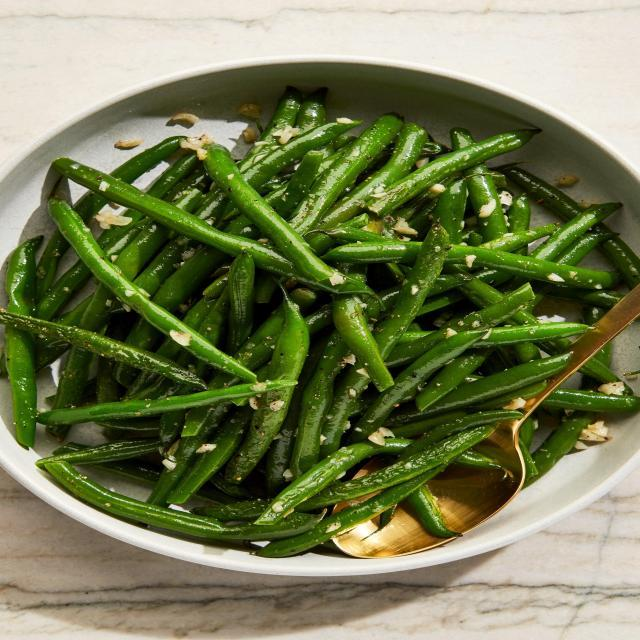Beans: (0, 94, 639, 572)
